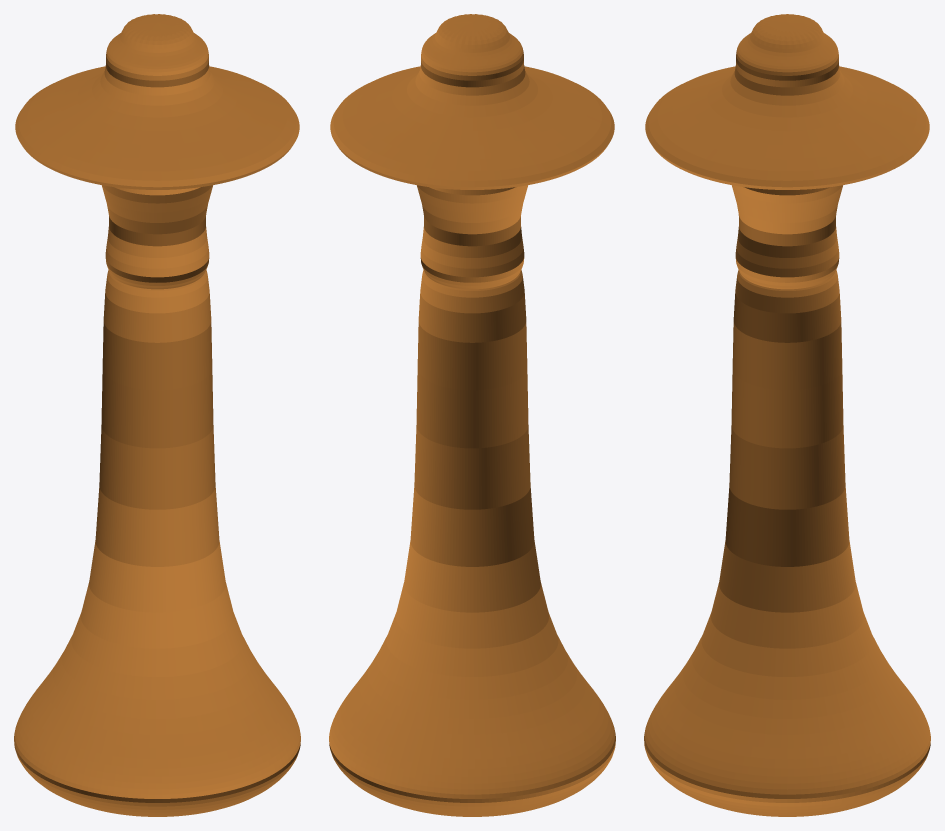
The model's file is King.obj.
3 renders of one model, left to right at view 1: azimuth 30°, elevation 25°; view 2: azimuth 150°, elevation 25°; view 3: azimuth 270°, elevation 25°, orthographic.
Visible parts, largest first — view 1: King; view 2: King; view 3: King.
Part boxes in pixels (<box>): King: <box>14,14,300,816</box>; King: <box>329,14,615,816</box>; King: <box>644,14,930,816</box>.
Bounding box in the file's own units: 1.77 × 5.14 × 1.77.
